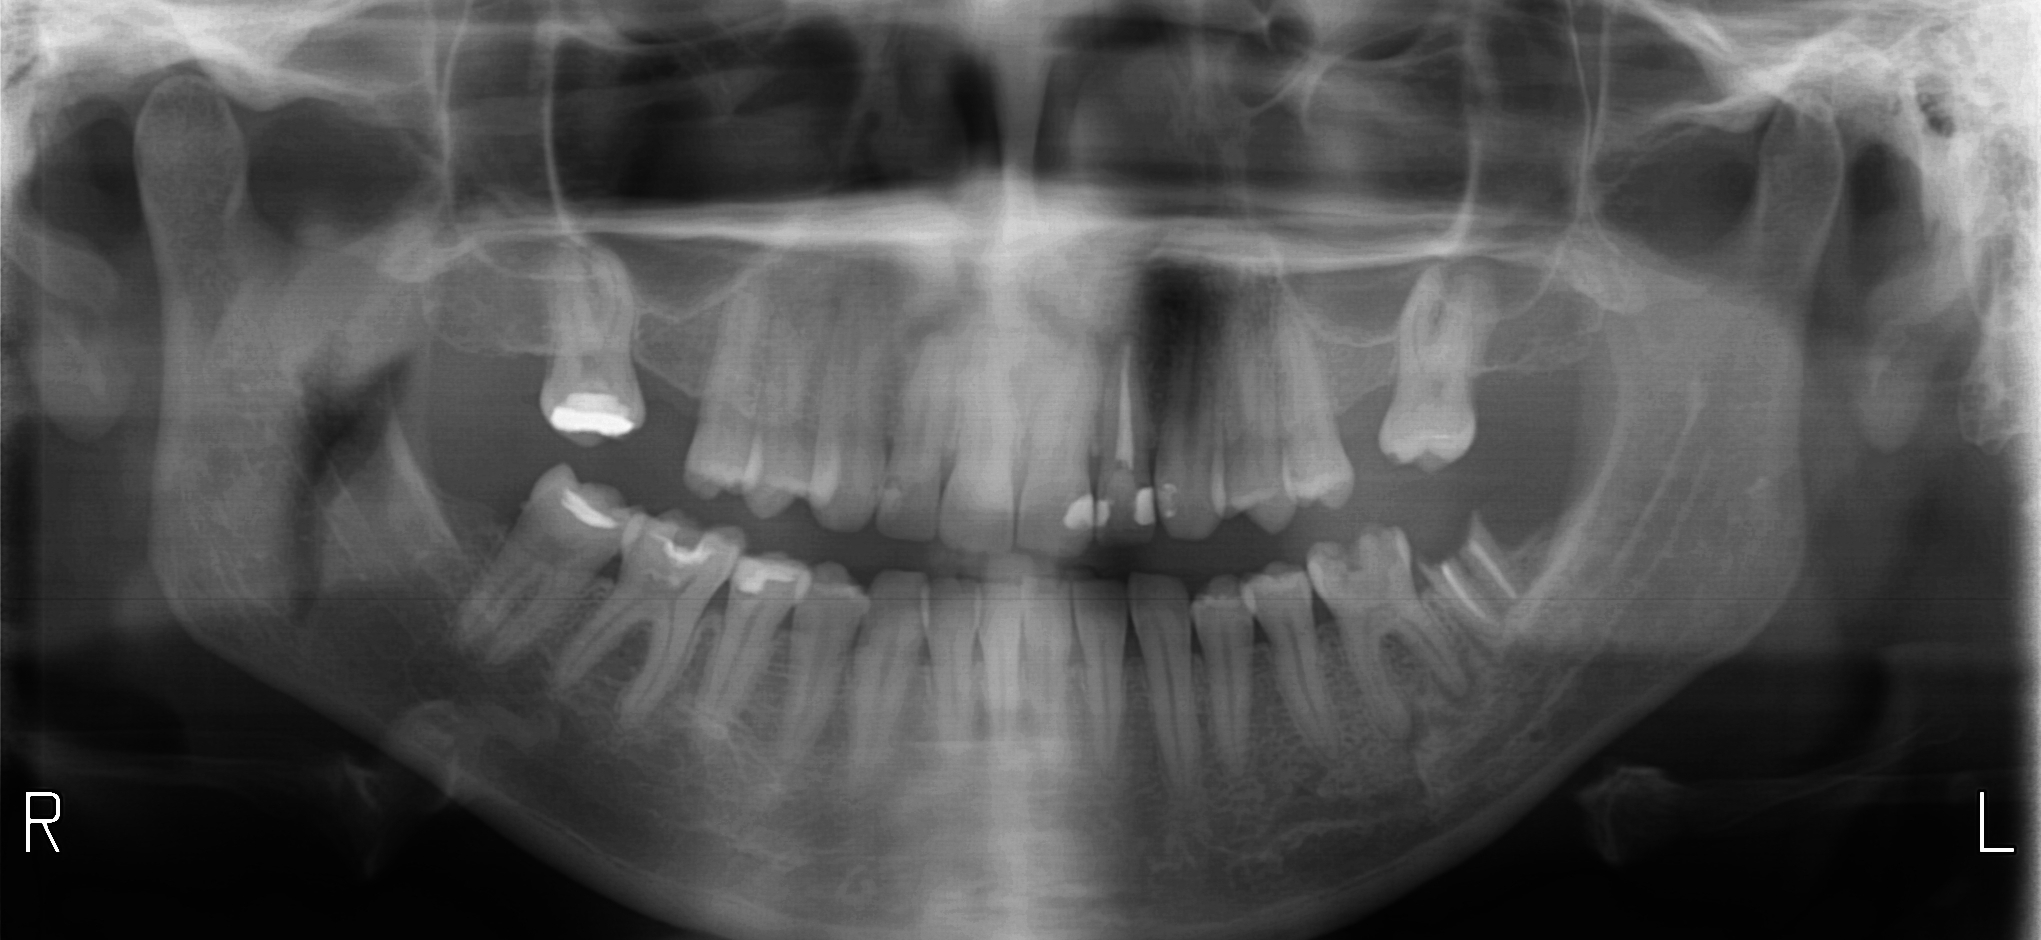cavity: (890, 473, 907, 490), (1349, 559, 1358, 566), (871, 480, 873, 484)
